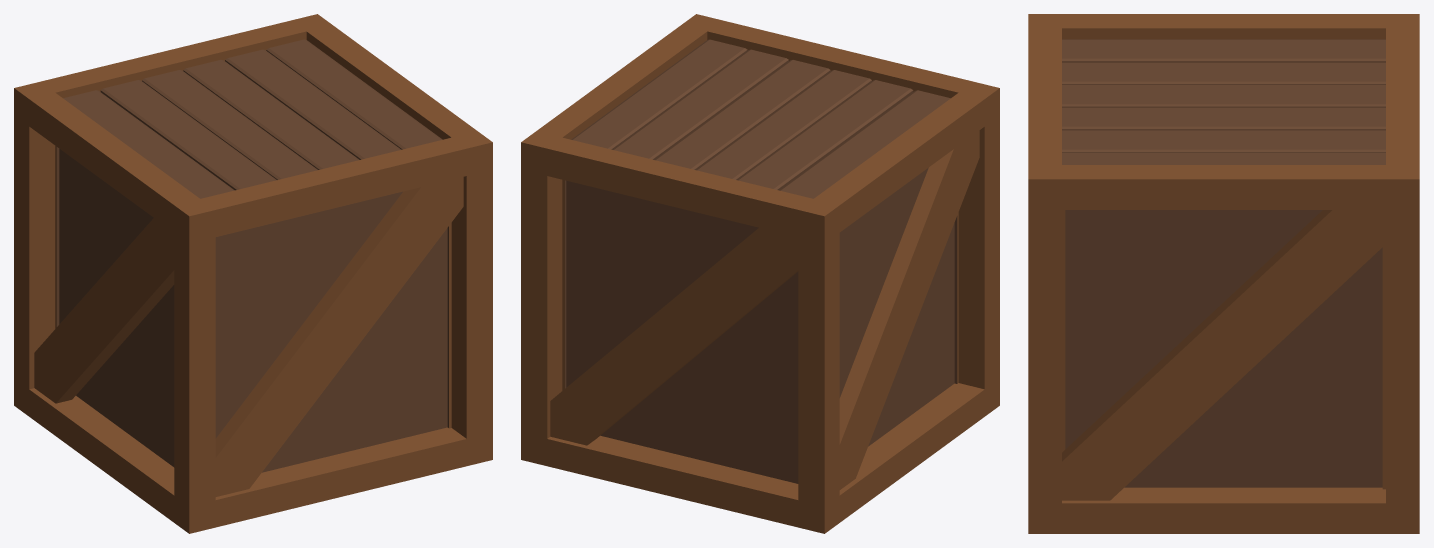
Rendered from Crate.fbx.
3 renders of one model, left to right at view 1: azimuth 30°, elevation 25°; view 2: azimuth 150°, elevation 25°; view 3: azimuth 270°, elevation 25°, orthographic. The views are drawn at different scales.
Visible parts, largest first — view 1: Crate, Cube.002, Cube.001, Cube.008, Cube.005, Cube.006, Cube.004, Cube.007, Cube.009; view 2: Crate, Cube.003, Cube.001, Cube.008, Cube.005, Cube.006, Cube.004, Cube.007, Cube.009; view 3: Crate, Cube, Cube.006, Cube.009, Cube.005, Cube.007, Cube.008, Cube.004.
Part boxes in pixels (bbox=[...]): Crate: bbox=[14, 14, 492, 533]; Cube.002: bbox=[215, 177, 463, 496]; Cube.001: bbox=[34, 218, 174, 403]; Cube.008: bbox=[100, 80, 276, 190]; Cube.005: bbox=[225, 49, 401, 159]; Cube.006: bbox=[183, 60, 359, 169]; Cube.004: bbox=[266, 39, 442, 149]; Cube.007: bbox=[142, 70, 317, 179]; Cube.009: bbox=[63, 90, 234, 198]; Crate: bbox=[521, 14, 999, 533]; Cube.003: bbox=[550, 227, 798, 445]; Cube.001: bbox=[839, 130, 979, 489]; Cube.008: bbox=[737, 80, 913, 190]; Cube.005: bbox=[612, 49, 788, 159]; Cube.006: bbox=[654, 60, 830, 169]; Cube.004: bbox=[571, 39, 747, 149]; Cube.007: bbox=[696, 70, 871, 179]; Cube.009: bbox=[779, 90, 950, 198]; Crate: bbox=[1028, 14, 1419, 533]; Cube: bbox=[1062, 210, 1385, 500]; Cube.006: bbox=[1062, 107, 1385, 130]; Cube.009: bbox=[1062, 39, 1385, 62]; Cube.005: bbox=[1062, 130, 1385, 152]; Cube.007: bbox=[1062, 85, 1385, 107]; Cube.008: bbox=[1062, 62, 1385, 84]; Cube.004: bbox=[1062, 152, 1385, 164].
Bounding box in the file's own units: 200 × 200 × 200.
